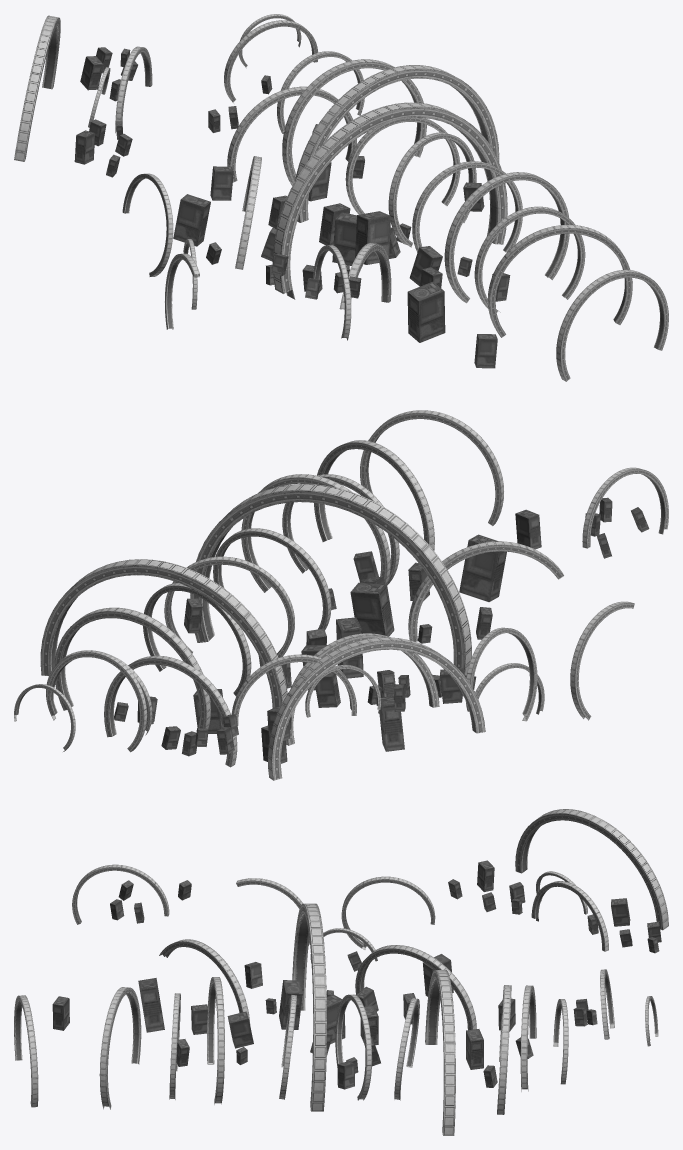
File: BackgroundParts.fbx
3 renders of one model, top to bottom at view 1: azimuth 30°, elevation 25°; view 2: azimuth 150°, elevation 25°; view 3: azimuth 270°, elevation 25°, orthographic. The views are drawn at different scales.
Parts seen in each view (by area): view 1: polySurface182; view 2: polySurface182; view 3: polySurface182.
Part boxes in pixels (x1,y1,x2,y2): polySurface182: (14,14,668,381); polySurface182: (14,410,668,780); polySurface182: (14,809,668,1135).
Bounding box in the file's own units: 40.6 × 16.03 × 57.83.
